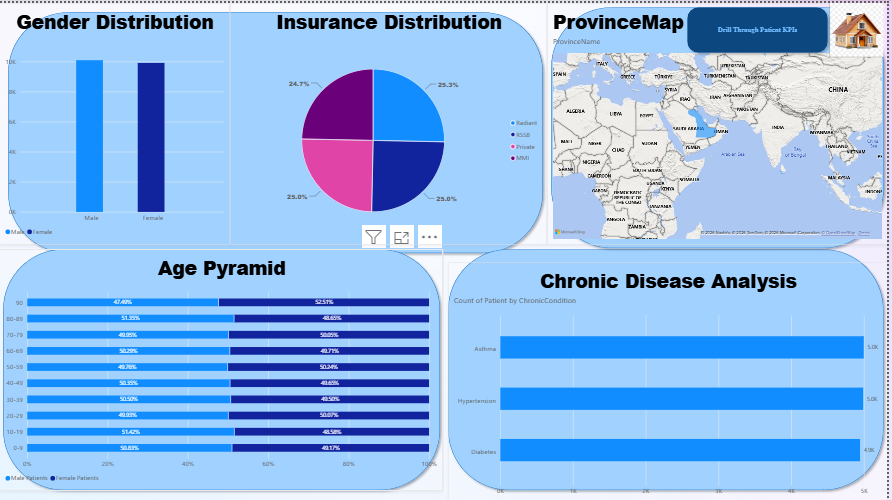

The page's visual inventory and layout, read from the dashboard file:
{"tool":"powerbi","page":{"name":"Patient Analytics","canvas":[1920,1080],"ordinal":2},"visuals":[{"type":"group","id":"g1","title":"Group 1","box":[0,0,1920,1060.8],"z":0},{"type":"shape","box":[9.9,9.9,1173.1,538.7],"z":0,"group":"g1"},{"type":"columnChart","title":"Gender Distribution","fields":{"Category":["HC_Patients.Gender"],"Series":["HC_Patients.Gender"],"Y":["Count(HC_Patients.PatientID)"]},"box":[0,0,498.9,521.6],"z":1000},{"type":"shape","box":[0,522.1,961.7,538.7],"z":1000,"group":"g1"},{"type":"shape","box":[961.7,522.1,958.3,538.7],"z":2000,"group":"g1"},{"type":"hundredPercentStackedBarChart","title":"Age Pyramid","fields":{"Category":["HC_Patients.Age_Group"],"Y":["HC_Patients.Male Patients","HC_Patients.Female Patients"]},"box":[0,532,960,522],"z":2000},{"type":"shape","box":[1183.1,0,736.9,538.7],"z":3000,"group":"g1"},{"type":"filledMap","title":"ProvinceMap","fields":{"Category":["Geographical_Location.ProvinceName"]},"box":[1184.3,0,735.7,521.6],"z":3000},{"type":"barChart","title":"Chronic Disease Analysis","fields":{"Category":["HC_Patients.ChronicCondition"],"Y":["CountNonNull(HC_Patients.PatientID)"]},"box":[970.1,559.4,950,522],"z":4000},{"type":"pieChart","title":"Insurance Distribution","fields":{"Category":["HC_Insurance_Claims.Provider"],"Y":["Count(HC_Insurance_Claims.ClaimID)"]},"box":[498.9,0,685.4,521.6],"z":5000},{"type":"image","box":[1783.7,0,136.1,116.9],"z":10000},{"type":"actionButton","box":[1477.4,0,321.8,116.6],"z":11000}]}

Visuals, with their boxes in screenshot pixels (x1, y1, x2, y2), scaled from the page's 1920x1080 canvas onto the 892x500 screenshot:
"Group 1" group: l=0, t=0, r=891, b=491
shape: l=5, t=5, r=550, b=254
"Gender Distribution" columnChart: l=0, t=0, r=232, b=241
shape: l=0, t=242, r=447, b=491
shape: l=447, t=242, r=891, b=491
"Age Pyramid" hundredPercentStackedBarChart: l=0, t=246, r=446, b=488
shape: l=550, t=0, r=891, b=249
"ProvinceMap" filledMap: l=550, t=0, r=891, b=241
"Chronic Disease Analysis" barChart: l=451, t=259, r=891, b=499
"Insurance Distribution" pieChart: l=232, t=0, r=550, b=241
image: l=829, t=0, r=891, b=54
actionButton: l=686, t=0, r=836, b=54
